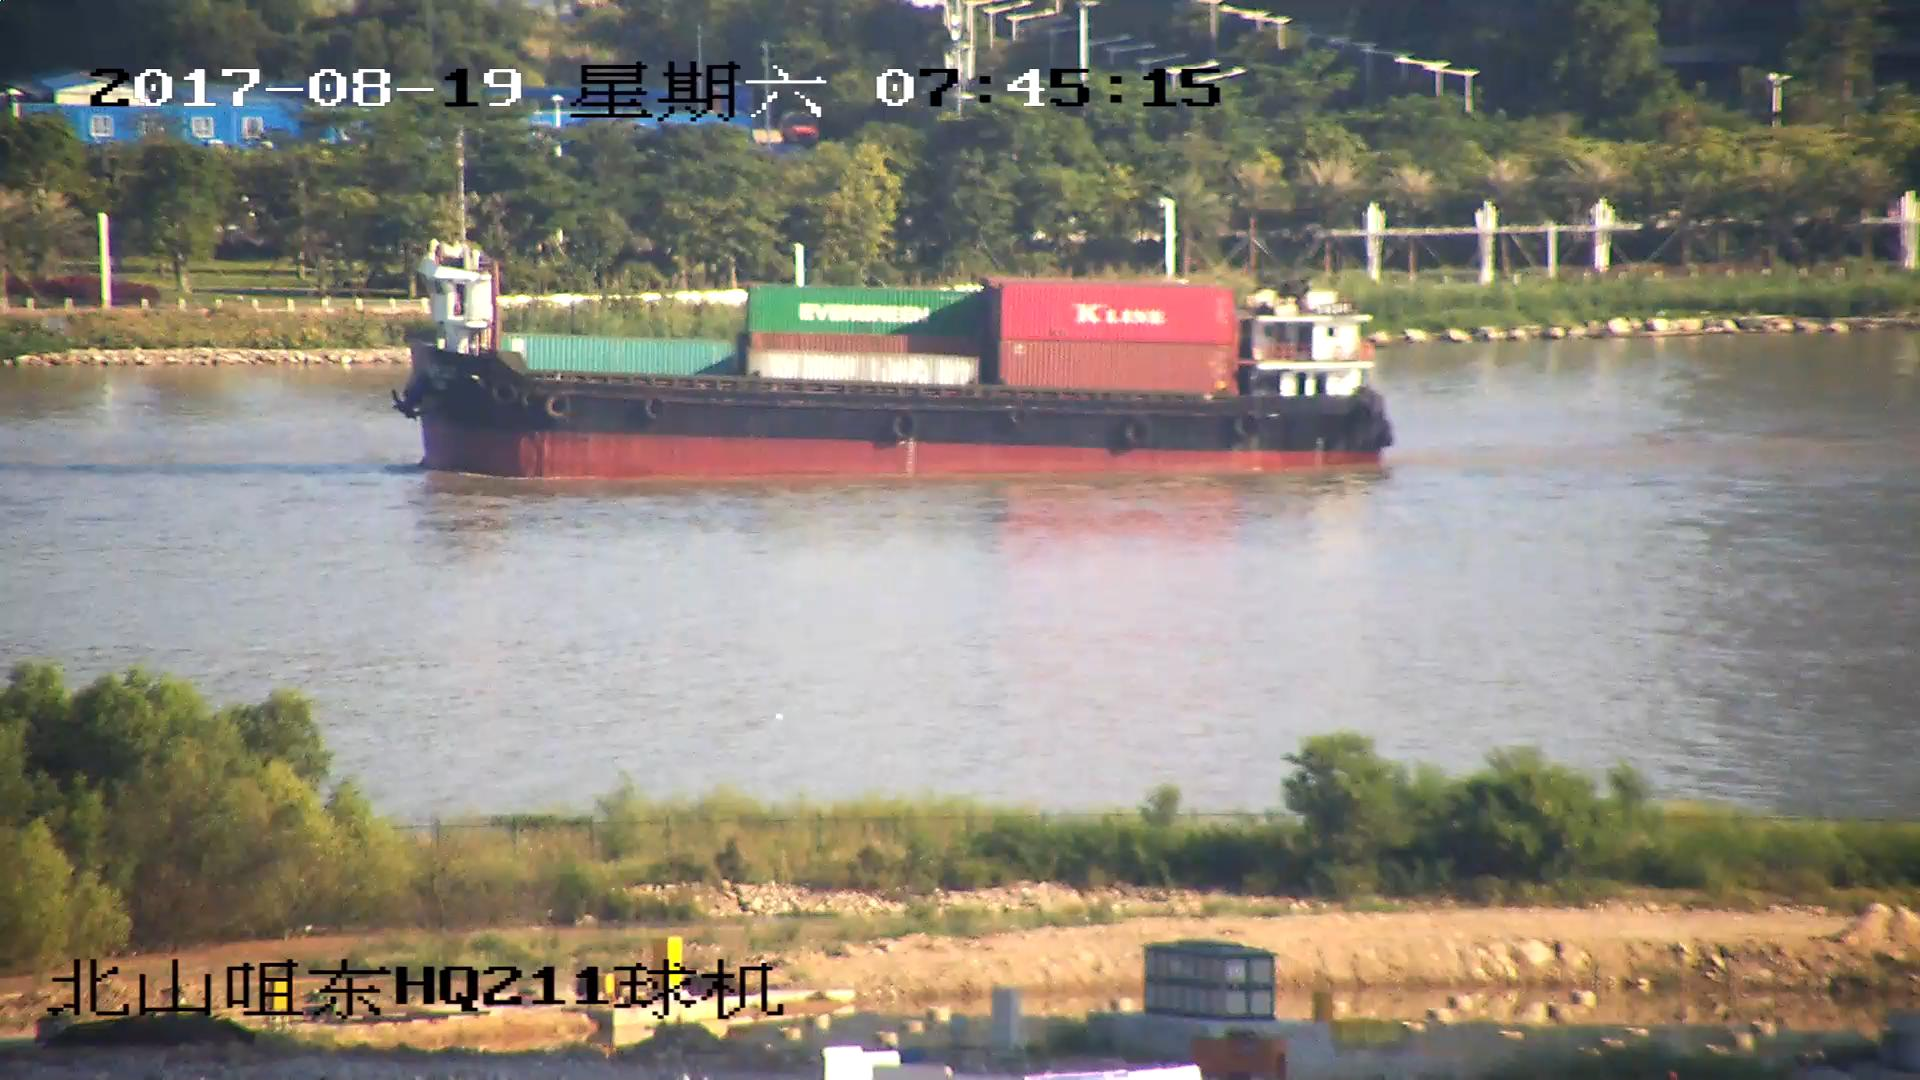container ship: (386, 148, 1397, 484)
